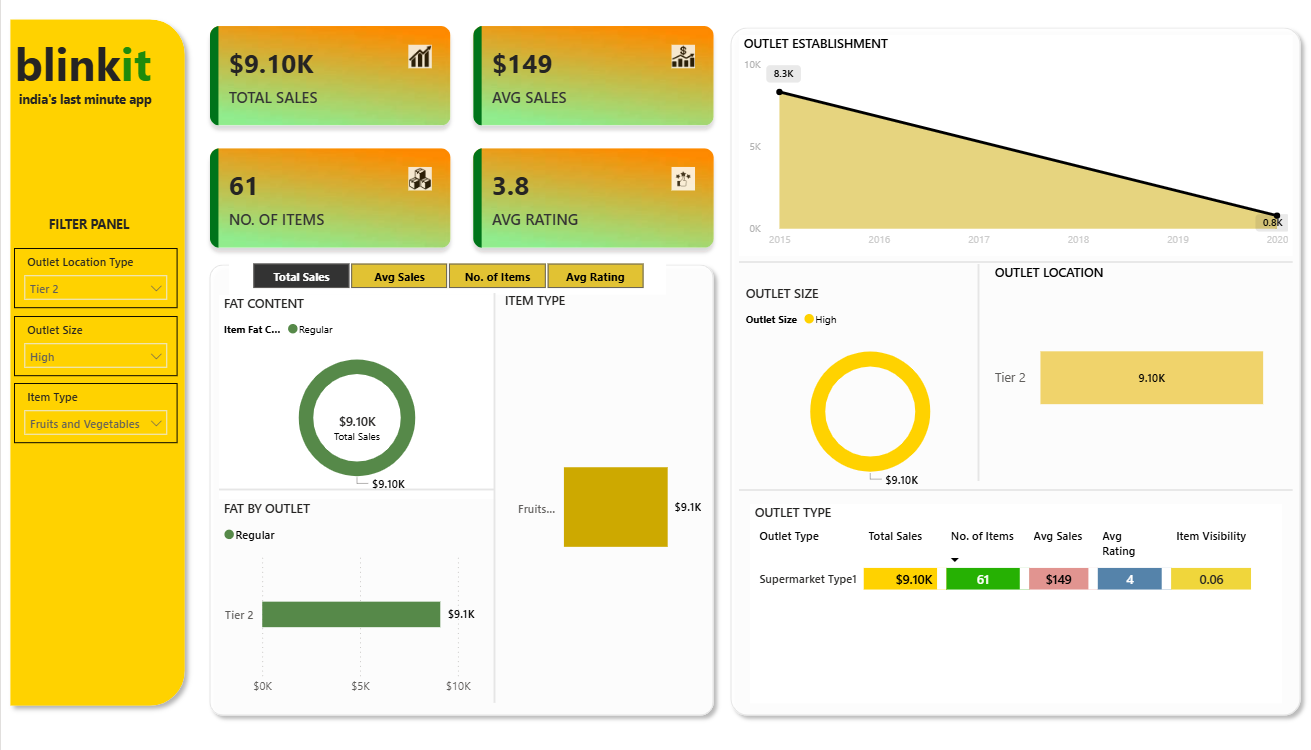

This screenshot's page, from the dashboard's own definition file:
{"tool":"powerbi","page":{"name":"Page 1","canvas":[1400,800],"ordinal":0},"visuals":[{"type":"shape","box":[0,10.6,205.3,750],"z":0},{"type":"textbox","box":[9.6,28.7,178.7,91.5],"z":1000},{"type":"textbox","box":[13.8,91.5,163.8,28.7],"z":2000},{"type":"cardVisual","fields":{"Data":["BlinkIT Grocery Data.Total Sales","BlinkIT Grocery Data.Avg Sales","BlinkIT Grocery Data.No. of Items","BlinkIT Grocery Data.Avg Rating"]},"box":[205.3,10.6,570.2,270.2],"z":3000},{"type":"shape","box":[212.8,272.3,554.3,497.9],"z":4000},{"type":"donutChart","title":"FAT CONTENT","fields":{"Y":["BlinkIT Grocery Data.Total Sales"],"Category":["BlinkIT Grocery Data.Item Fat Content"]},"box":[231.9,313.8,293.6,217],"z":5000},{"type":"slicer","fields":{"Values":["Metrics.Metrics"]},"box":[242.6,273.4,464.9,40.4],"z":6000},{"type":"cardVisual","fields":{"Data":["BlinkIT Grocery Data.Total Sales"]},"box":[328.7,422.3,100,57.4],"z":7000},{"type":"clusteredBarChart","title":"FAT BY OUTLET","fields":{"Y":["BlinkIT Grocery Data.Total Sales"],"Category":["BlinkIT Grocery Data.Outlet Location Type"],"Series":["BlinkIT Grocery Data.Item Fat Content"]},"box":[231.9,531.9,293.6,216],"z":8000},{"type":"shape","box":[231.9,511.7,293.6,18.1],"z":9000},{"type":"shape","box":[519.1,311.7,11.7,436.2],"z":10000},{"type":"barChart","title":"ITEM TYPE","fields":{"Y":["BlinkIT Grocery Data.Total Sales"],"Category":["BlinkIT Grocery Data.Item Type"]},"box":[530.9,310.6,219.1,437.2],"z":11000},{"type":"shape","box":[767,20.2,624.5,750],"z":12000},{"type":"lineChart","title":"OUTLET ESTABLISHMENT","fields":{"Y":["Sum(BlinkIT Grocery Data.Sales)"],"Category":["BlinkIT Grocery Data.Outlet Establishment Year"]},"box":[785.1,37.2,589.4,235.1],"z":13000},{"type":"shape","box":[785.1,263.8,589.4,29.8],"z":14000},{"type":"donutChart","title":"OUTLET SIZE","fields":{"Y":["BlinkIT Grocery Data.Total Sales"],"Category":["BlinkIT Grocery Data.Outlet Size"]},"box":[787.2,303.2,275,225],"z":15000},{"type":"shape","box":[1028.7,280.9,22.3,230.9],"z":16000},{"type":"funnel","title":"OUTLET LOCATION","fields":{"Y":["Sum(BlinkIT Grocery Data.Sales)"],"Category":["BlinkIT Grocery Data.Outlet Location Type"]},"box":[1052,280.8,300.6,225],"z":17000},{"type":"shape","box":[785.1,506.4,589.4,29.8],"z":18000},{"type":"pivotTable","title":"OUTLET TYPE","fields":{"Rows":["BlinkIT Grocery Data.Outlet Type"],"Values":["BlinkIT Grocery Data.Total Sales","BlinkIT Grocery Data.No. of Items","BlinkIT Grocery Data.Avg Sales","BlinkIT Grocery Data.Avg Rating","Avg(BlinkIT Grocery Data.Item Visibility)"]},"box":[796.8,536.2,566,211.7],"z":19000},{"type":"slicer","fields":{"Values":["BlinkIT Grocery Data.Outlet Location Type"]},"box":[13.8,263.8,174.5,63.8],"z":20000},{"type":"slicer","fields":{"Values":["BlinkIT Grocery Data.Outlet Size"]},"box":[13.8,336.2,174.5,63.8],"z":21000},{"type":"slicer","fields":{"Values":["BlinkIT Grocery Data.Item Type"]},"box":[13.8,407.4,174.5,63.8],"z":22000},{"type":"textbox","box":[45.7,224.5,105.3,28.7],"z":23000}]}

Visuals, with their boxes in screenshot pixels (x1, y1, x2, y2), scaled from the page's 1400x800 canvas onto the 1311x750 screenshot:
shape: {"left": 0, "top": 10, "right": 192, "bottom": 713}
textbox: {"left": 9, "top": 27, "right": 176, "bottom": 113}
textbox: {"left": 13, "top": 86, "right": 166, "bottom": 113}
cardVisual - BlinkIT Grocery Data.Total Sales x BlinkIT Grocery Data.Avg Sales: {"left": 192, "top": 10, "right": 726, "bottom": 263}
shape: {"left": 199, "top": 255, "right": 718, "bottom": 722}
"FAT CONTENT" donutChart: {"left": 217, "top": 294, "right": 492, "bottom": 498}
slicer - Metrics.Metrics: {"left": 227, "top": 256, "right": 663, "bottom": 294}
cardVisual - BlinkIT Grocery Data.Total Sales: {"left": 308, "top": 396, "right": 401, "bottom": 450}
"FAT BY OUTLET" clusteredBarChart: {"left": 217, "top": 499, "right": 492, "bottom": 701}
shape: {"left": 217, "top": 480, "right": 492, "bottom": 497}
shape: {"left": 486, "top": 292, "right": 497, "bottom": 701}
"ITEM TYPE" barChart: {"left": 497, "top": 291, "right": 702, "bottom": 701}
shape: {"left": 718, "top": 19, "right": 1303, "bottom": 722}
"OUTLET ESTABLISHMENT" lineChart: {"left": 735, "top": 35, "right": 1287, "bottom": 255}
shape: {"left": 735, "top": 247, "right": 1287, "bottom": 275}
"OUTLET SIZE" donutChart: {"left": 737, "top": 284, "right": 995, "bottom": 495}
shape: {"left": 963, "top": 263, "right": 984, "bottom": 480}
"OUTLET LOCATION" funnel: {"left": 985, "top": 263, "right": 1267, "bottom": 474}
shape: {"left": 735, "top": 475, "right": 1287, "bottom": 503}
"OUTLET TYPE" pivotTable: {"left": 746, "top": 503, "right": 1276, "bottom": 701}
slicer - BlinkIT Grocery Data.Outlet Location Type: {"left": 13, "top": 247, "right": 176, "bottom": 307}
slicer - BlinkIT Grocery Data.Outlet Size: {"left": 13, "top": 315, "right": 176, "bottom": 375}
slicer - BlinkIT Grocery Data.Item Type: {"left": 13, "top": 382, "right": 176, "bottom": 442}
textbox: {"left": 43, "top": 210, "right": 141, "bottom": 237}
